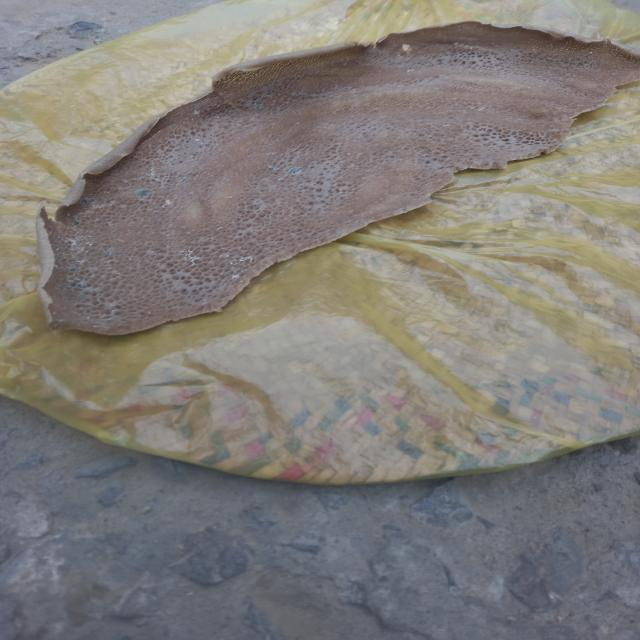injera_mold: (64, 232, 93, 253), (177, 246, 205, 267), (228, 254, 256, 264), (142, 168, 162, 182), (136, 188, 153, 198), (66, 279, 82, 287), (102, 248, 114, 256), (71, 217, 82, 225), (288, 168, 301, 174), (55, 252, 65, 259), (68, 266, 79, 272), (229, 274, 242, 279), (406, 68, 415, 74), (102, 259, 115, 263), (54, 241, 62, 247), (164, 200, 173, 205), (76, 260, 87, 264), (254, 104, 264, 108), (266, 152, 276, 156), (269, 166, 279, 170), (193, 110, 200, 115), (83, 197, 91, 201), (216, 226, 224, 230), (92, 324, 98, 328), (180, 178, 186, 182), (195, 138, 201, 142), (277, 178, 283, 181), (225, 196, 234, 198), (56, 248, 60, 251), (161, 205, 165, 208), (189, 192, 193, 195)
